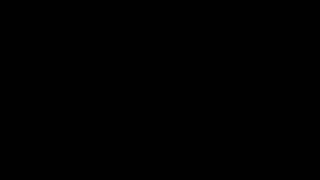go_ahead: (203, 67, 214, 78)
